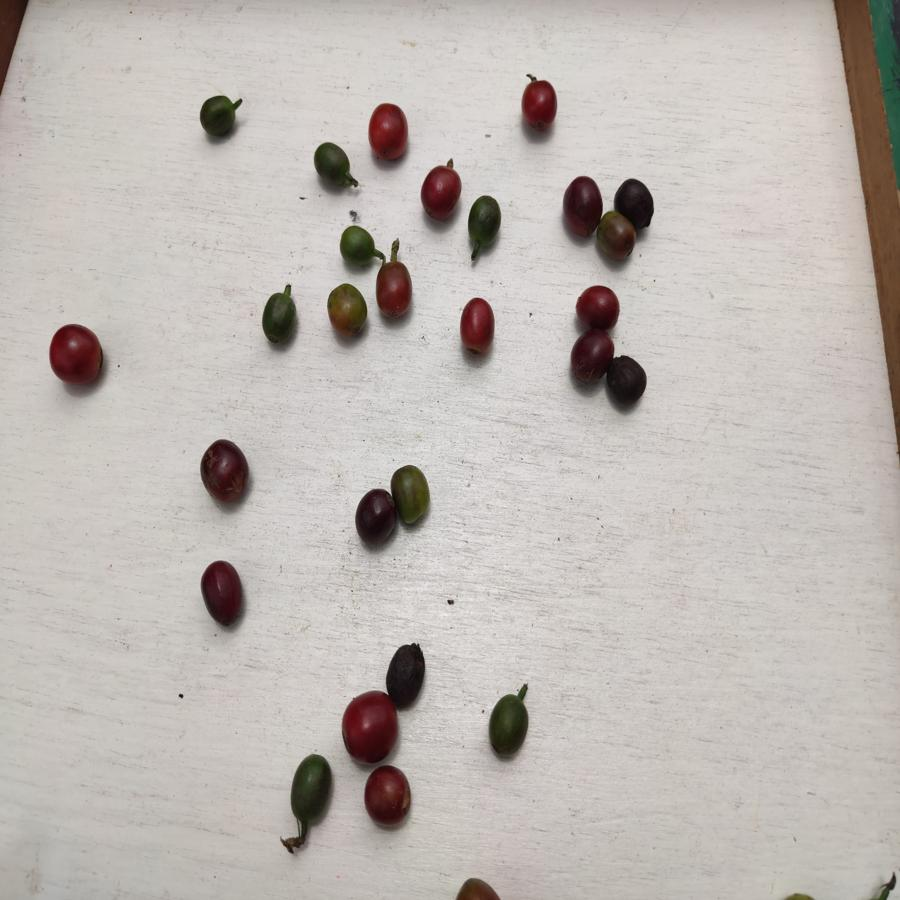Inmaduro: (484, 691, 531, 759), (286, 755, 332, 822), (196, 96, 239, 142), (467, 195, 504, 248), (260, 293, 297, 345), (314, 142, 354, 188), (338, 227, 379, 265)
Maduro: (341, 695, 397, 763), (46, 325, 106, 385), (457, 294, 501, 359), (419, 164, 464, 222), (374, 258, 415, 321), (368, 101, 410, 161), (520, 78, 558, 131)
Pinton: (393, 465, 430, 527), (326, 284, 367, 337), (600, 215, 638, 259)
Sobremaduro: (362, 765, 417, 829), (197, 437, 251, 500), (198, 558, 245, 630), (386, 641, 428, 708), (562, 174, 601, 240), (574, 282, 624, 332), (351, 488, 394, 546), (568, 329, 608, 386), (604, 354, 648, 402), (614, 174, 658, 214)
